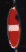No entry: (5, 6, 21, 47)
